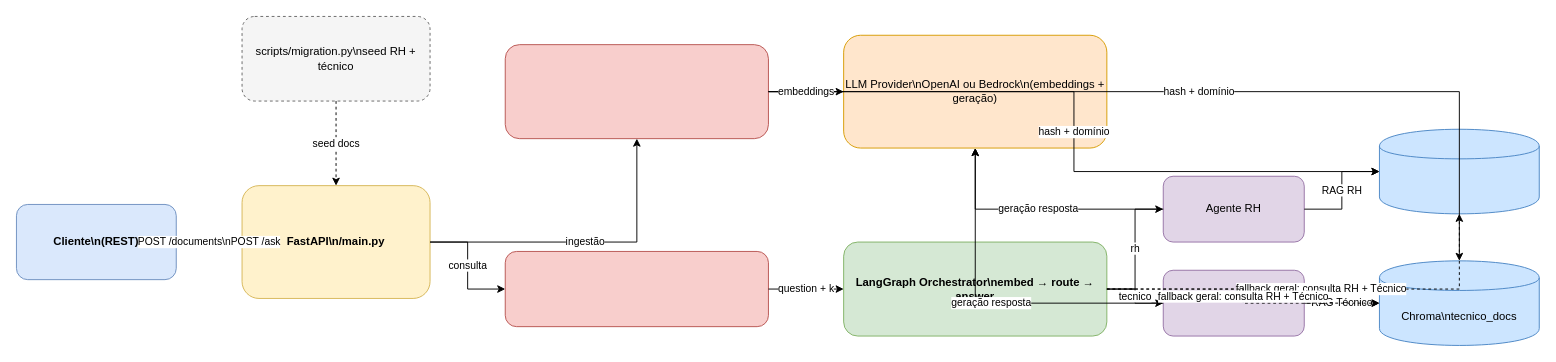
This 1556x362 diagram has some shape labels left out. The shapes that lost their labels are listed below. From the top down, each one's box as (x1, y1, x2, y2) in pixels, then its label:
(504, 44, 768, 139): Ingest Handler\nchunking + embeddings + dedupe
(1379, 128, 1539, 214): Chroma\nrh_docs
(504, 251, 768, 327): Query Handler\nvalidação da pergunta
(1162, 269, 1304, 336): Agente Técnico
